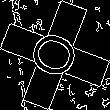O_E: (24, 26, 86, 84)
